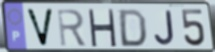5: (180, 8, 207, 48)
D: (119, 8, 148, 48)
H: (86, 8, 118, 48)
J: (152, 9, 176, 47)
R: (56, 8, 89, 48)
V: (24, 7, 55, 48)
